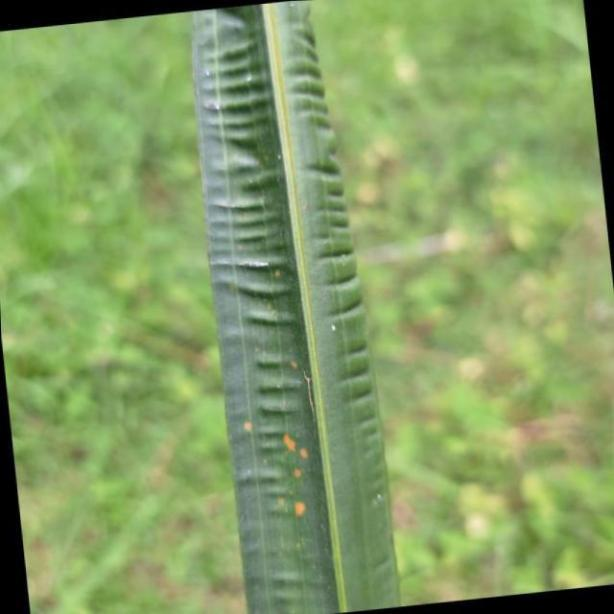Boron: (197, 5, 396, 614)
